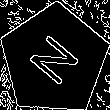N_SE: (23, 28, 85, 91)
